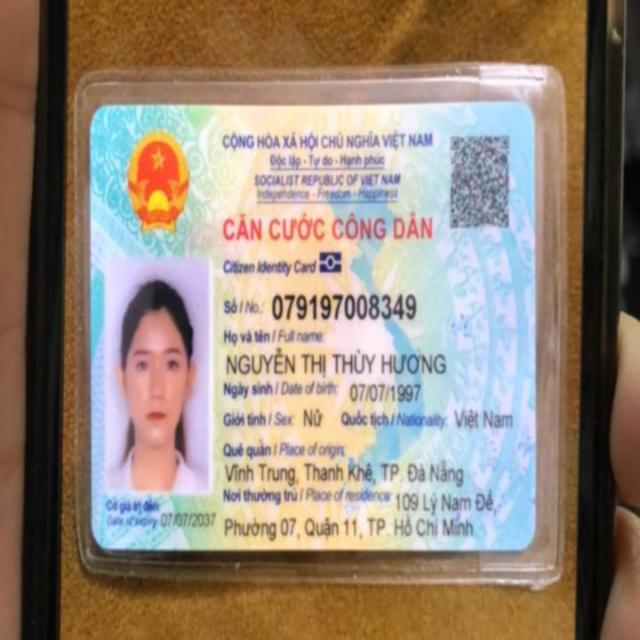bottom_left: (82, 522, 120, 558)
bottom_right: (504, 517, 544, 561)
image_person: (101, 264, 217, 496)
top_left: (82, 87, 118, 135)
top_right: (509, 90, 544, 130)
